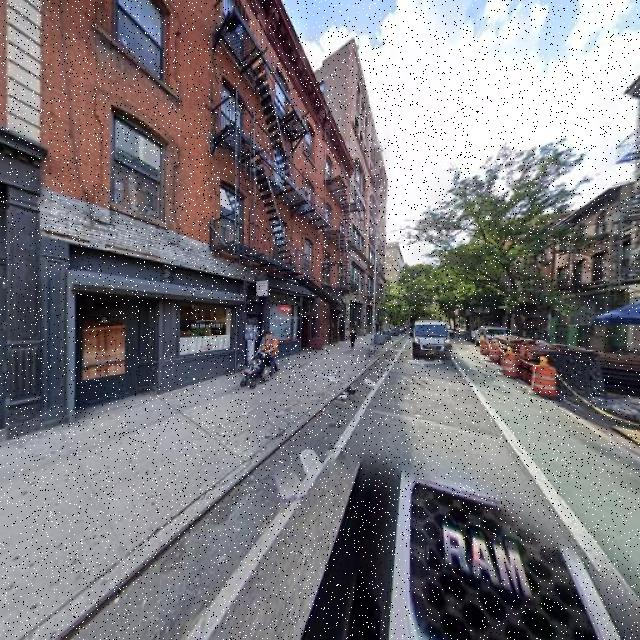Building: (48, 1, 347, 419), (1, 1, 40, 432), (637, 85, 640, 364)
